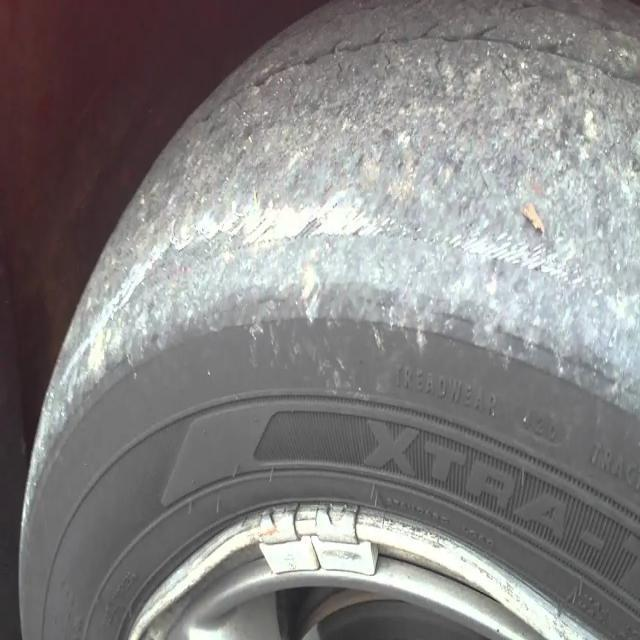Flat spots: (289, 43, 640, 323)
